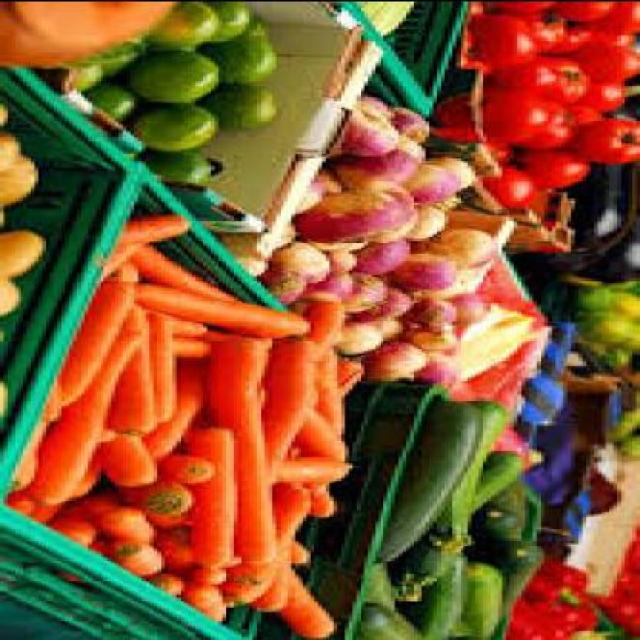BIODEGRADABLE: (35, 307, 153, 502), (398, 396, 509, 596), (383, 397, 483, 557), (211, 330, 275, 558), (532, 160, 638, 268), (138, 279, 314, 335), (64, 273, 138, 402), (264, 333, 322, 479), (188, 424, 242, 562), (138, 239, 252, 301), (107, 304, 161, 430), (406, 544, 471, 638), (299, 187, 413, 239), (578, 182, 638, 280), (460, 309, 540, 380), (153, 356, 212, 452), (490, 51, 595, 100), (479, 534, 548, 604), (130, 47, 222, 99), (280, 565, 342, 638), (483, 81, 560, 136), (134, 99, 223, 144), (464, 558, 513, 638), (137, 1, 223, 44), (333, 148, 425, 188), (214, 30, 284, 82), (96, 428, 161, 483), (472, 11, 540, 63), (574, 29, 638, 82), (206, 82, 280, 127), (476, 447, 530, 507), (494, 6, 568, 49), (524, 557, 594, 601), (525, 96, 583, 146), (426, 225, 502, 263), (352, 599, 426, 638), (119, 478, 203, 511), (578, 114, 638, 160), (391, 248, 460, 288), (520, 148, 594, 185), (552, 14, 632, 48), (341, 104, 399, 150), (298, 407, 352, 456), (402, 162, 467, 202), (548, 604, 624, 638), (153, 307, 176, 419), (15, 420, 54, 486), (486, 161, 545, 204), (146, 146, 220, 180), (272, 239, 334, 279), (276, 453, 361, 481), (372, 339, 433, 378), (4, 224, 50, 274), (92, 78, 150, 117), (276, 484, 315, 542), (260, 543, 294, 608), (107, 536, 168, 572), (322, 335, 344, 434), (310, 297, 348, 354), (127, 210, 196, 241), (387, 102, 433, 148), (103, 504, 165, 538), (306, 163, 352, 208), (463, 300, 522, 334), (406, 197, 456, 237), (201, 1, 254, 38), (342, 269, 391, 309), (360, 1, 422, 32), (69, 39, 149, 63), (376, 551, 410, 606), (8, 150, 46, 199), (360, 284, 418, 316), (360, 238, 414, 272), (480, 500, 526, 537), (103, 239, 149, 276), (376, 204, 426, 238), (583, 306, 632, 340), (161, 452, 219, 479), (410, 322, 464, 350), (406, 295, 460, 322), (188, 583, 230, 617), (166, 530, 200, 572), (77, 448, 108, 494), (341, 318, 387, 349), (433, 152, 479, 183), (414, 348, 460, 378), (314, 266, 360, 296), (264, 268, 307, 300), (586, 78, 629, 109), (514, 604, 552, 638), (107, 47, 150, 75), (310, 479, 344, 513), (494, 470, 528, 502), (172, 310, 215, 335), (456, 290, 490, 321), (556, 1, 618, 17), (80, 56, 112, 86), (364, 93, 398, 121), (344, 352, 368, 390), (172, 335, 215, 356), (568, 98, 617, 116), (4, 128, 27, 166), (612, 286, 638, 319), (586, 282, 617, 306), (612, 2, 638, 30), (494, 136, 526, 158), (16, 483, 46, 506), (195, 564, 234, 581), (4, 276, 22, 312), (34, 496, 68, 515), (486, 1, 557, 10), (50, 384, 68, 418), (292, 534, 314, 557), (329, 248, 360, 264), (161, 572, 188, 590), (624, 318, 638, 348), (257, 11, 275, 34), (100, 421, 122, 437), (388, 314, 406, 332), (4, 100, 11, 118)
